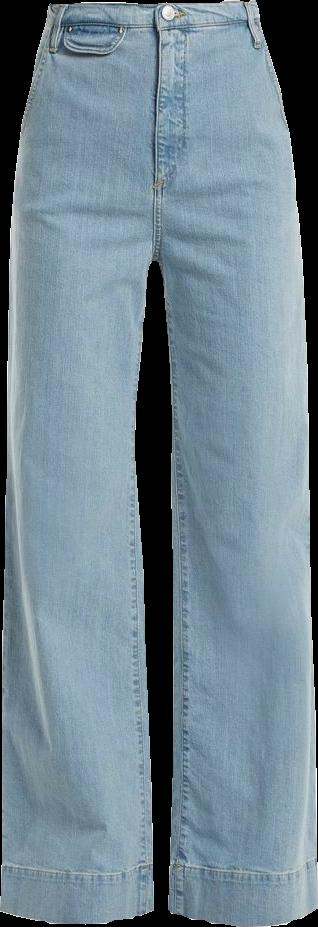Hemline: (0, 899, 156, 925), (169, 900, 317, 925)
Pantleg: (153, 0, 317, 926), (1, 2, 165, 923)
Waistline: (48, 11, 264, 36), (47, 0, 256, 15)
